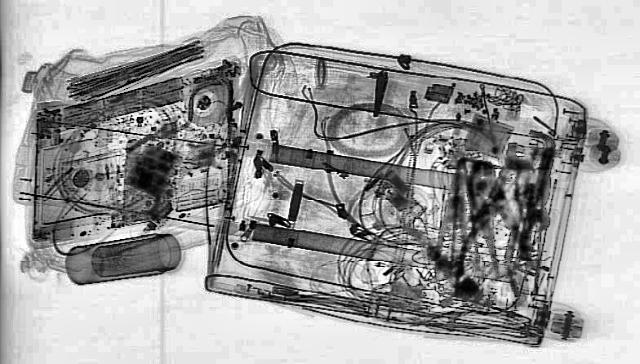Pliers: (458, 160, 532, 276)
